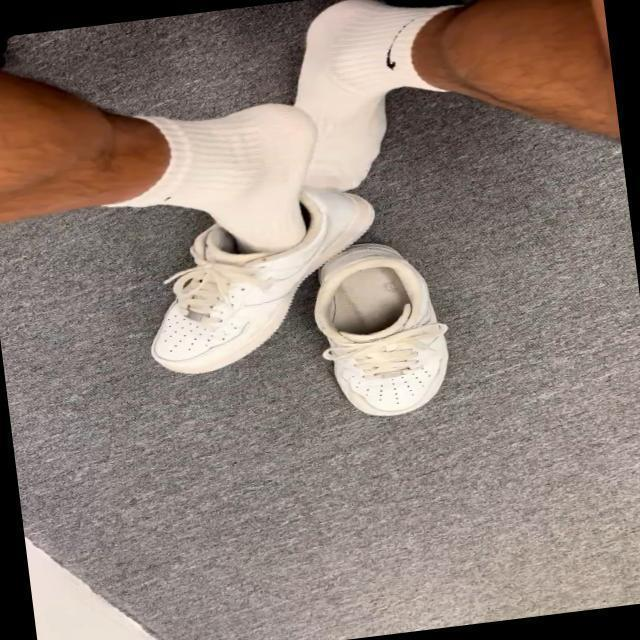nike original air force: (120, 169, 392, 380), (299, 234, 466, 428)
